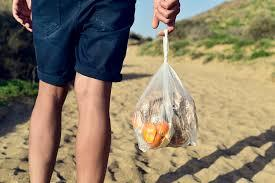Plastic bag: (132, 18, 203, 159)
